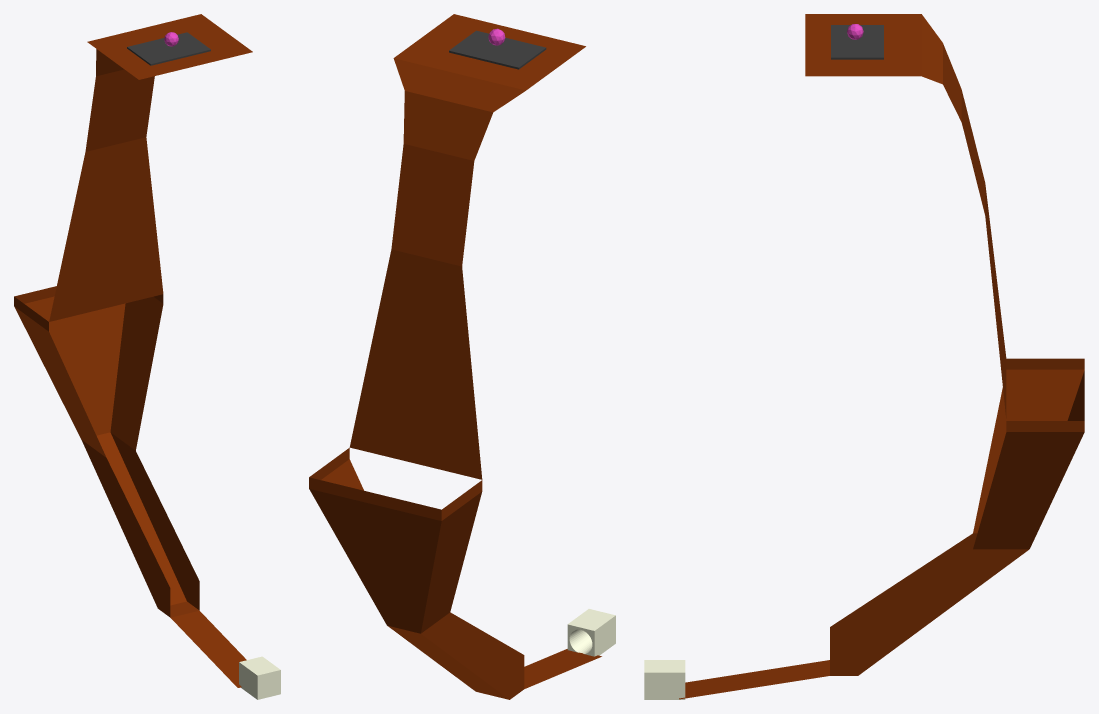
File: boilerplate_level_18.glb
3 renders of one model, left to right at view 1: azimuth 30°, elevation 25°; view 2: azimuth 150°, elevation 25°; view 3: azimuth 270°, elevation 25°, orthographic. The views are drawn at different scales.
Parts seen in each view (by area): view 1: Plane, Start, Cup; view 2: Plane, Start, Cup; view 3: Plane, Cup, Start.
Part boxes in pixels (x1,y1,x2,y2): Plane: (14, 14, 252, 687); Start: (127, 32, 210, 65); Cup: (239, 656, 280, 699); Plane: (309, 14, 601, 699); Start: (449, 30, 546, 69); Cup: (567, 609, 615, 656); Plane: (679, 14, 1084, 699); Cup: (644, 660, 685, 699); Start: (831, 25, 883, 59).
Size of the model in its own units: 14.95 by 74.54 by 44.58.
